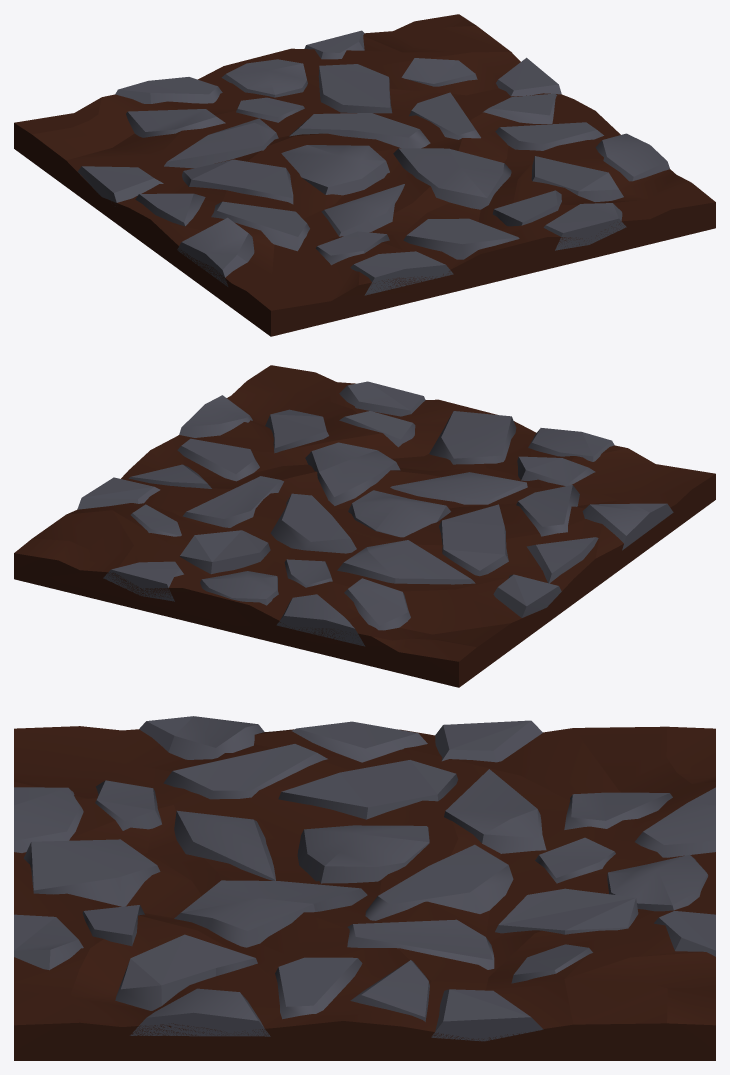
The model's file is Ground_Stone_Path_Crossroads.fbx.
3 renders of one model, top to bottom at view 1: azimuth 30°, elevation 25°; view 2: azimuth 150°, elevation 25°; view 3: azimuth 270°, elevation 25°, orthographic. The views are drawn at different scales.
Parts seen in each view (by area): view 1: Ground_Stone_Path_Crossroads; view 2: Ground_Stone_Path_Crossroads; view 3: Ground_Stone_Path_Crossroads.
Part boxes in pixels (<box>): Ground_Stone_Path_Crossroads: <box>14,14,715,336</box>; Ground_Stone_Path_Crossroads: <box>14,365,715,687</box>; Ground_Stone_Path_Crossroads: <box>14,716,715,1060</box>.
Size of the model in its own units: 147 by 14.83 by 147.
